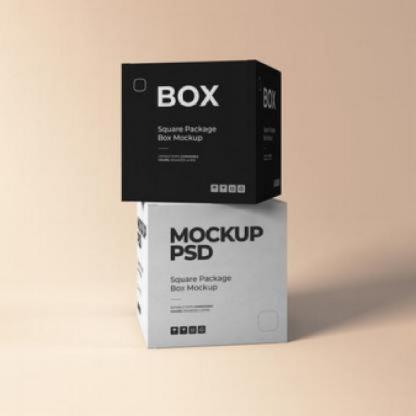-: (131, 185, 303, 355), (115, 56, 291, 215)
